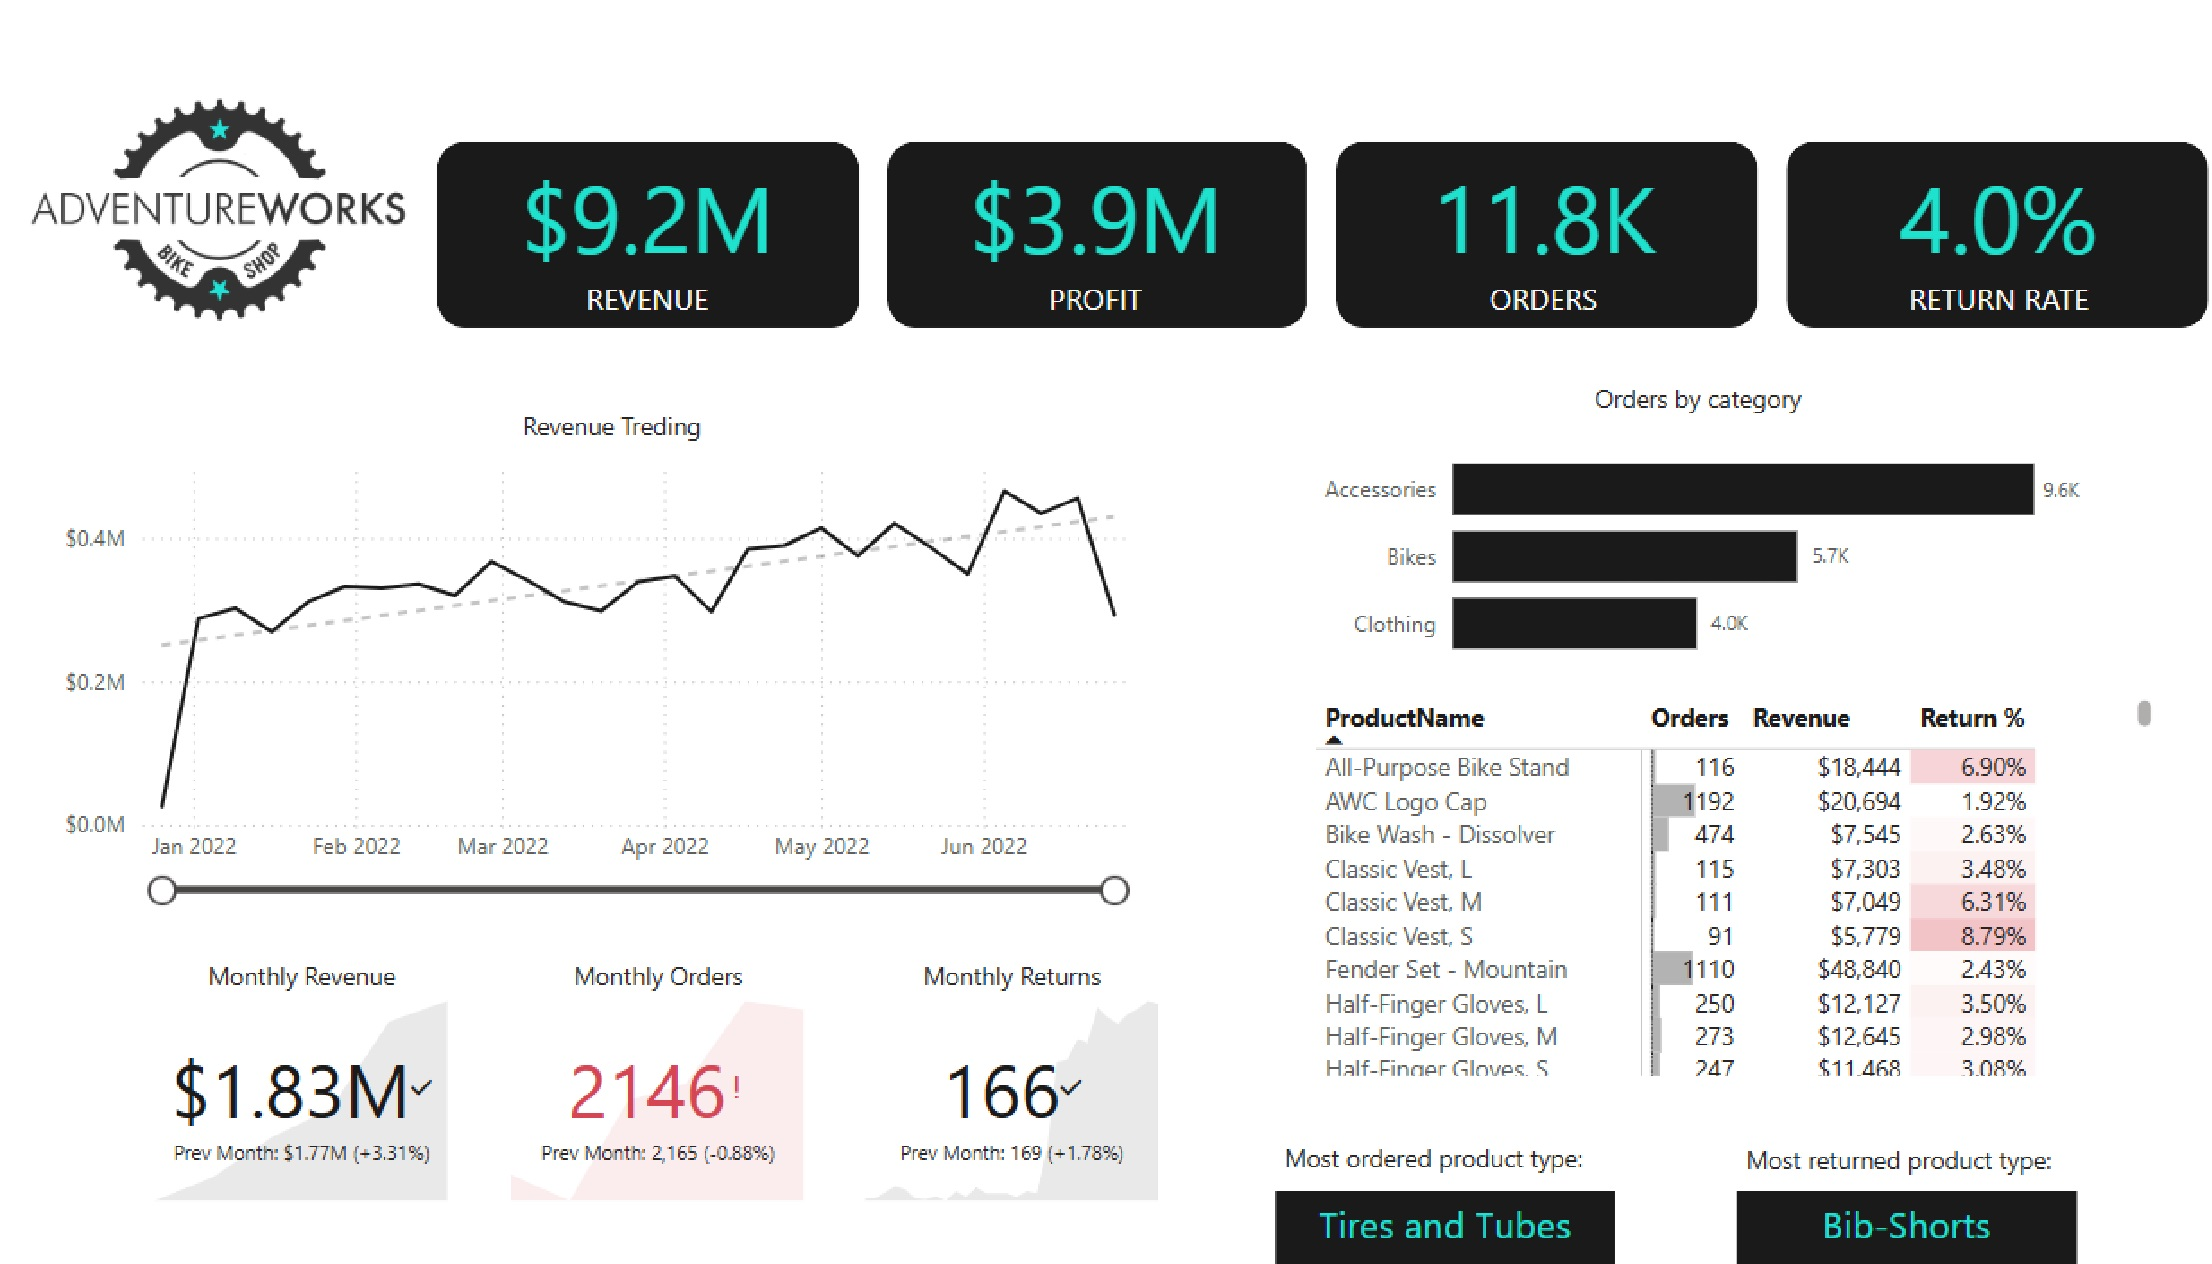

What the dashboard file says about the page in this screenshot:
{"tool":"powerbi","page":{"name":"Exec Dashboard ","canvas":[1280,720],"ordinal":0},"visuals":[{"type":"shape","title":"Left Nav Background","box":[0,0,49.4,720],"z":0},{"type":"shape","box":[296.7,96.5,230.4,100.1],"z":0,"group":"g1"},{"type":"shape","box":[1032.4,96.5,230.4,100.1],"z":1000,"group":"g1"},{"type":"image","title":"AW Logo","box":[49.4,39.8,259.3,185.7],"z":1000},{"type":"shape","box":[542.3,96.5,229.1,100.1],"z":2000,"group":"g1"},{"type":"group","id":"g1","title":"KPI Background","box":[296.7,96.5,966,100.1],"z":2000},{"type":"shape","box":[786.8,96.5,230.4,100.1],"z":3000,"group":"g1"},{"type":"card","fields":{"Values":["Measure Table.Total Revenue"]},"box":[282.2,54.3,259.3,185.7],"z":3000},{"type":"card","fields":{"Values":["Measure Table.Return Rate"]},"box":[1020.3,54.3,259.3,185.7],"z":4000},{"type":"card","fields":{"Values":["Measure Table.Total profit"]},"box":[527,54.3,259.3,185.7],"z":5000},{"type":"card","fields":{"Values":["Measure Table.Total Orders"]},"box":[771.9,54.3,259.3,185.7],"z":6000},{"type":"lineChart","title":"Revenue Treding","fields":{"Y":["Measure Table.Total Revenue"],"Category":["Calendar Lookup.Year","Calendar Lookup.Start of Month","Calendar Lookup.Start of Week"]},"box":[89.2,240,606.6,270.2],"z":7000},{"type":"kpi","title":"Monthly Revenue","fields":{"Indicator":["Measure Table.Total Revenue"],"TrendLine":["Calendar Lookup.Start of Month"],"Goal":["Measure Table.Previous Month Revenue"]},"box":[138.7,535.5,170.1,135.1],"z":8000},{"type":"kpi","title":"Monthly Returns","fields":{"TrendLine":["Calendar Lookup.Start of Month"],"Indicator":["Measure Table.Total Returns"],"Goal":["Measure Table.Previous Month Returns"]},"box":[525.8,535.5,170.1,135.1],"z":9000},{"type":"kpi","title":"Monthly Orders","fields":{"TrendLine":["Calendar Lookup.Start of Month"],"Indicator":["Measure Table.Total Orders"],"Goal":["Measure Table.Previous Month Orders"]},"box":[332.3,535.5,170.1,135.1],"z":10000},{"type":"clusteredBarChart","title":"Orders by category","fields":{"Category":["Product Categories Lookup.CategoryName"],"Y":["Measure Table.Total Orders"]},"box":[771.9,225.5,426.9,165.2],"z":11000},{"type":"pivotTable","fields":{"Rows":["Product Lookup.ProductName"],"Values":["Measure Table.Total Orders","Measure Table.Total Revenue","Measure Table.Return Rate"]},"box":[771.9,390.8,466.7,212.3],"z":12000},{"type":"card","fields":{"Values":["Min(Product Subcategories Lookup.SubcategoryName)"]},"box":[755,660.9,185.7,39.8],"z":13000},{"type":"textbox","box":[755,628.3,182.1,32.6],"z":14000},{"type":"card","fields":{"Values":["Min(Product Subcategories Lookup.SubcategoryName)"]},"box":[1005.8,660.9,185.7,39.8],"z":15000},{"type":"textbox","box":[1005.8,629.5,186.9,31.4],"z":16000},{"type":"actionButton","box":[1.2,0,49.4,39.8],"z":17000}]}

Visuals, with their boxes in screenshot pixels (x1, y1, x2, y2), scaled from the page's 1280x720 canvas onto the 2212x1264 screenshot:
"Left Nav Background" shape: l=0, t=0, r=85, b=1263
shape: l=513, t=169, r=911, b=345
shape: l=1784, t=169, r=2182, b=345
"AW Logo" image: l=85, t=70, r=533, b=396
shape: l=937, t=169, r=1333, b=345
"KPI Background" group: l=513, t=169, r=2182, b=345
shape: l=1360, t=169, r=1758, b=345
card - Measure Table.Total Revenue: l=488, t=95, r=936, b=421
card - Measure Table.Return Rate: l=1763, t=95, r=2211, b=421
card - Measure Table.Total profit: l=911, t=95, r=1359, b=421
card - Measure Table.Total Orders: l=1334, t=95, r=1782, b=421
"Revenue Treding" lineChart: l=154, t=421, r=1202, b=896
"Monthly Revenue" kpi: l=240, t=940, r=534, b=1177
"Monthly Returns" kpi: l=909, t=940, r=1203, b=1177
"Monthly Orders" kpi: l=574, t=940, r=868, b=1177
"Orders by category" clusteredBarChart: l=1334, t=396, r=2072, b=686
pivotTable - Product Lookup.ProductName x Measure Table.Total Orders: l=1334, t=686, r=2140, b=1059
card - Min(Product Subcategories Lookup.SubcategoryName): l=1305, t=1160, r=1626, b=1230
textbox: l=1305, t=1103, r=1619, b=1160
card - Min(Product Subcategories Lookup.SubcategoryName): l=1738, t=1160, r=2059, b=1230
textbox: l=1738, t=1105, r=2061, b=1160
actionButton: l=2, t=0, r=87, b=70
